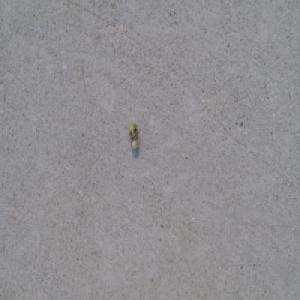BoltNutSet: (128, 122, 139, 148)
